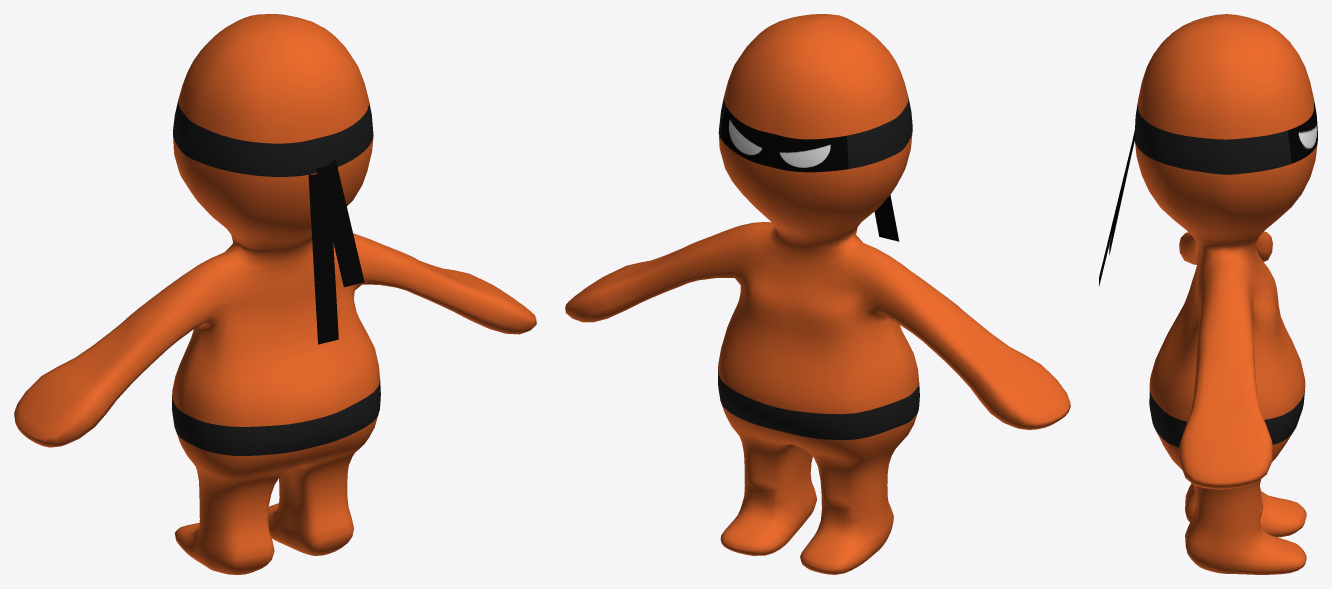
Rendered from High Poly Player 4 without sword.fbx.
3 renders of one model, left to right at view 1: azimuth 30°, elevation 25°; view 2: azimuth 150°, elevation 25°; view 3: azimuth 270°, elevation 25°, orthographic. The views are drawn at different scales.
Visible parts, largest first — view 1: Ninja, Plane, Plane.001; view 2: Ninja, Plane; view 3: Ninja, Plane.001, Plane.
Part boxes in pixels (x1,y1,x2,y2): Ninja: (14,14,536,574); Plane: (308,174,338,344); Plane.001: (316,159,364,287); Ninja: (565,14,1070,574); Plane: (874,195,899,241); Ninja: (1135,14,1317,574); Plane.001: (1109,130,1135,255); Plane: (1099,140,1134,286).
Size of the model in its own units: 484 by 493 by 186.
Materials: 5 (1 with a texture image).
